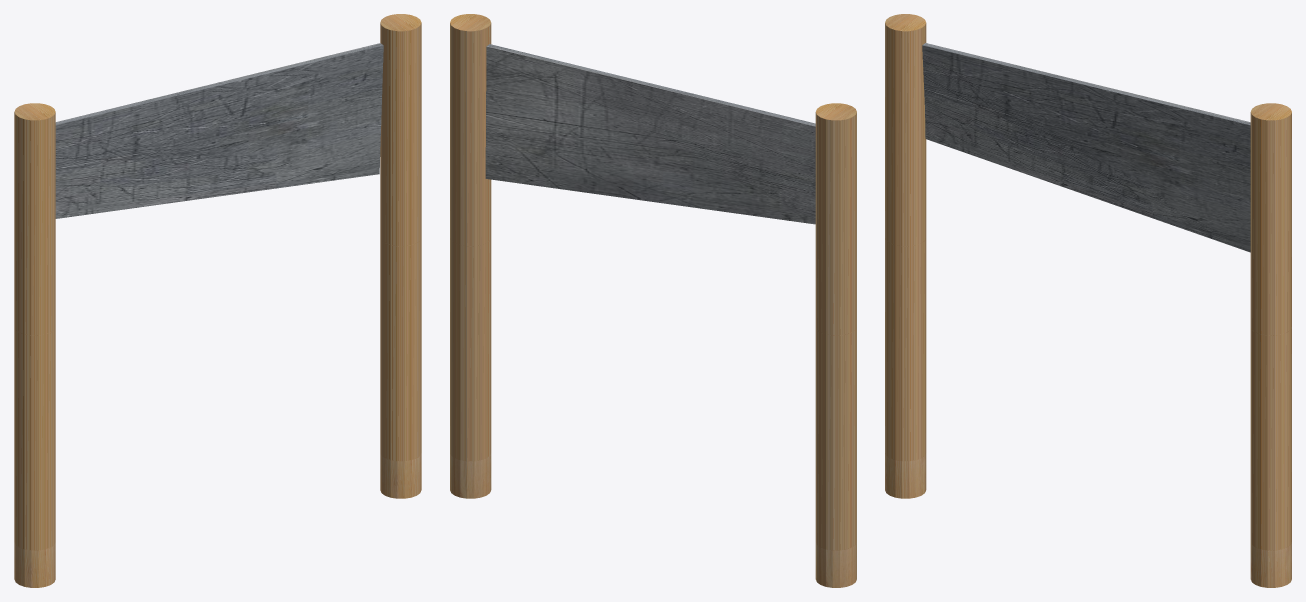
Rendered from Gelatin.fbx.
3 renders of one model, left to right at view 1: azimuth 30°, elevation 25°; view 2: azimuth 150°, elevation 25°; view 3: azimuth 330°, elevation 25°, orthographic.
Parts seen in each view (by area): view 1: Cube, Cylinder, Cylinder.001; view 2: Cube, Cylinder, Cylinder.001; view 3: Cube, Cylinder.001, Cylinder.
Boxes of the visible parts, x1,y1,x2,y2 form: Cube: (55,43,383,218); Cylinder: (14,103,55,587); Cylinder.001: (380,14,421,498); Cube: (485,44,815,224); Cylinder: (815,103,856,587); Cylinder.001: (450,14,491,498); Cube: (922,43,1250,252); Cylinder.001: (1250,103,1291,587); Cylinder: (885,14,926,498).
Size of the model in its own units: 390 by 435 by 34.86.
